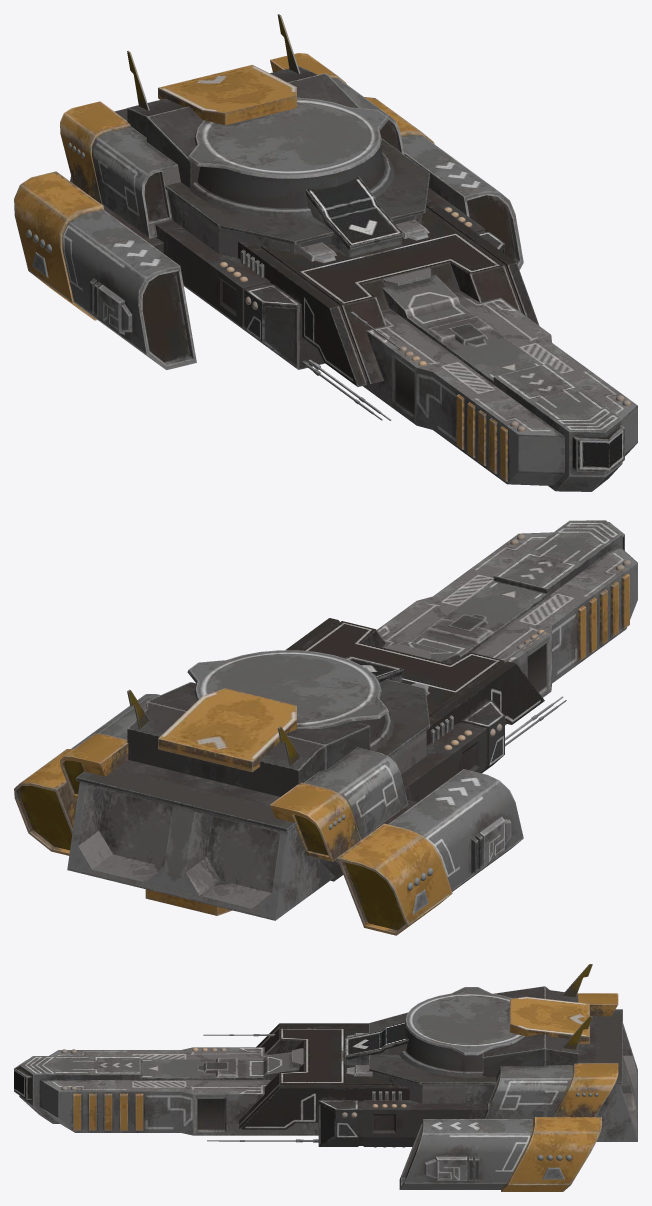
Rendered from Insurgent.d7c7ee8e8c.glb.
3 views of the same model, one above another, from view 1: azimuth 30°, elevation 25°; view 2: azimuth 150°, elevation 25°; view 3: azimuth 270°, elevation 25° (orthographic). The views are drawn at different scales.
Visible parts, largest first — view 1: Insurgent; view 2: Insurgent; view 3: Insurgent.
Boxes of the visible parts, <box> form: Insurgent: <box>14,14,637,491</box>; Insurgent: <box>14,520,637,935</box>; Insurgent: <box>14,964,637,1191</box>.
Size of the model in its own units: 5.57 by 2.87 by 10.95.
1 material, 1 textured.
